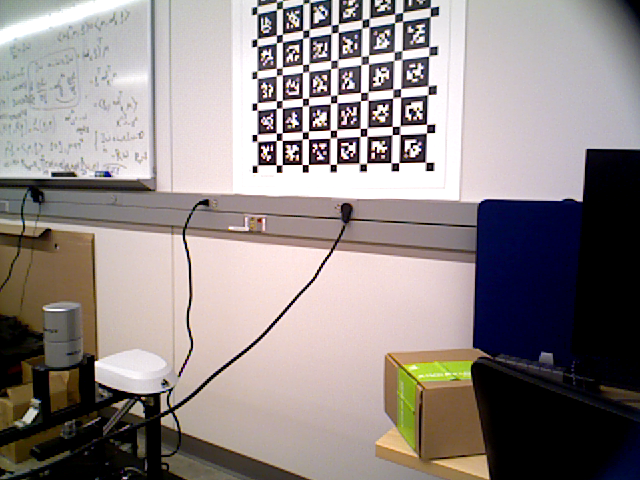painting4: (235, 1, 460, 201)
